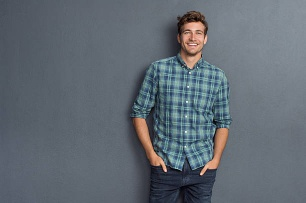male: (178, 15, 208, 59)
